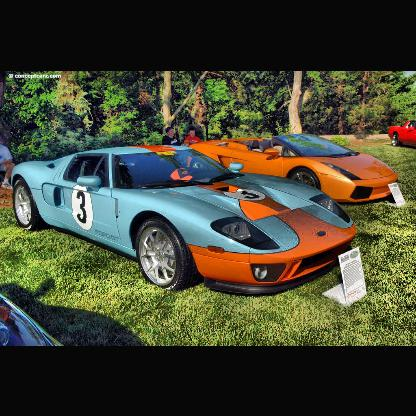Ford GT Coupe 2006: (11, 144, 357, 298)
